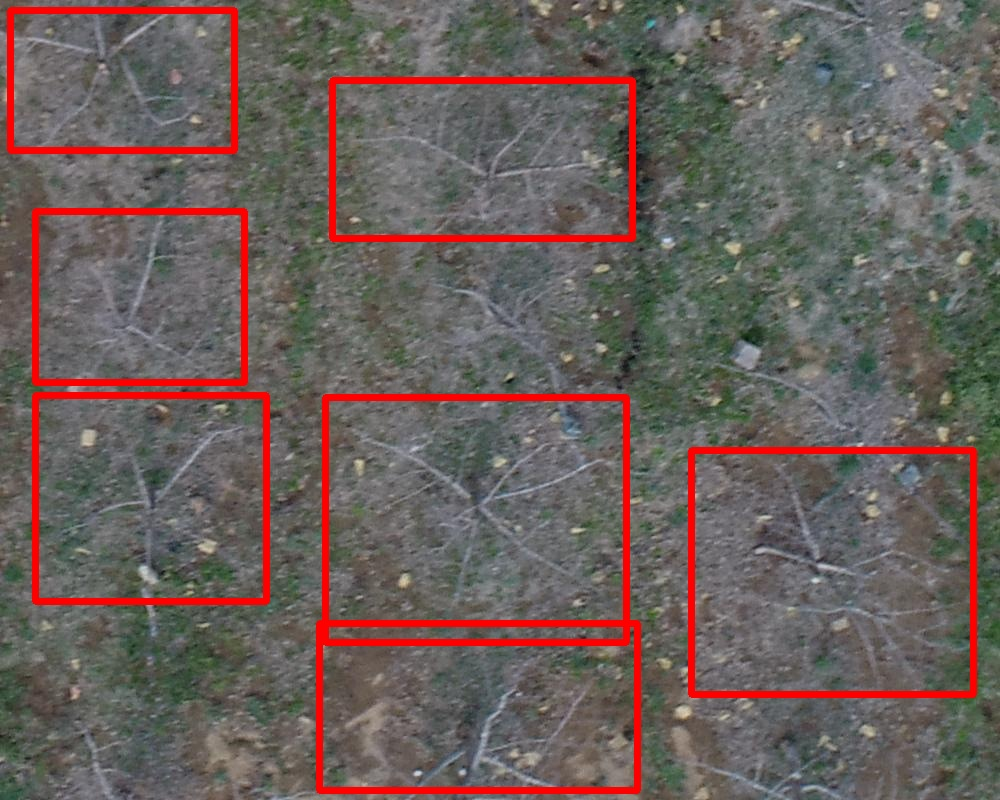apple: (325, 397, 626, 642), (691, 450, 973, 694), (319, 623, 637, 790), (35, 395, 266, 601), (332, 80, 632, 238), (35, 211, 244, 382), (10, 10, 234, 150)
